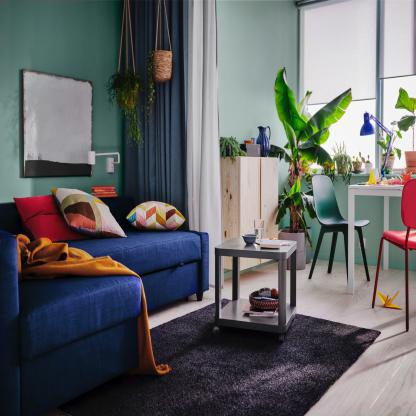bantal: (59, 187, 125, 238), (16, 196, 71, 243), (131, 197, 184, 232)
gelas: (241, 233, 258, 246)
kursi: (308, 170, 374, 292), (381, 179, 416, 326)
lampu: (358, 109, 389, 141)
sova: (2, 191, 211, 406)
tanaman: (275, 64, 314, 230), (104, 69, 163, 142)
